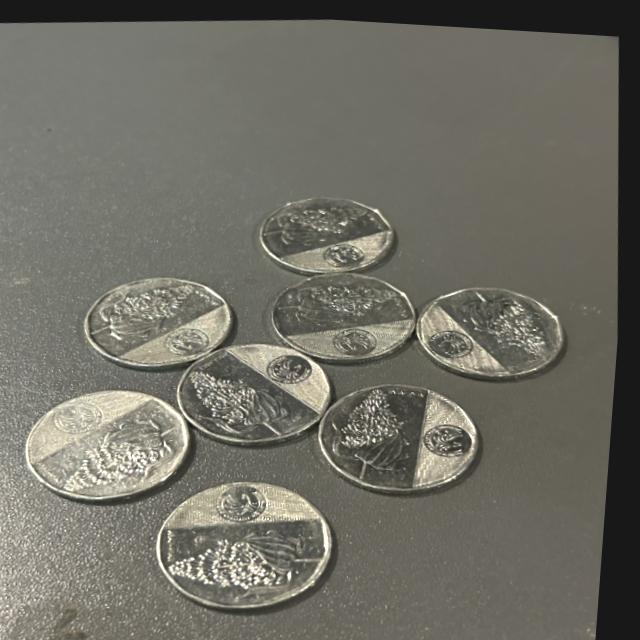10_New_Back: (158, 480, 310, 589), (332, 379, 471, 476), (39, 393, 187, 484), (195, 341, 328, 431), (423, 285, 563, 367), (105, 266, 218, 367), (295, 273, 417, 365), (271, 192, 377, 266)
